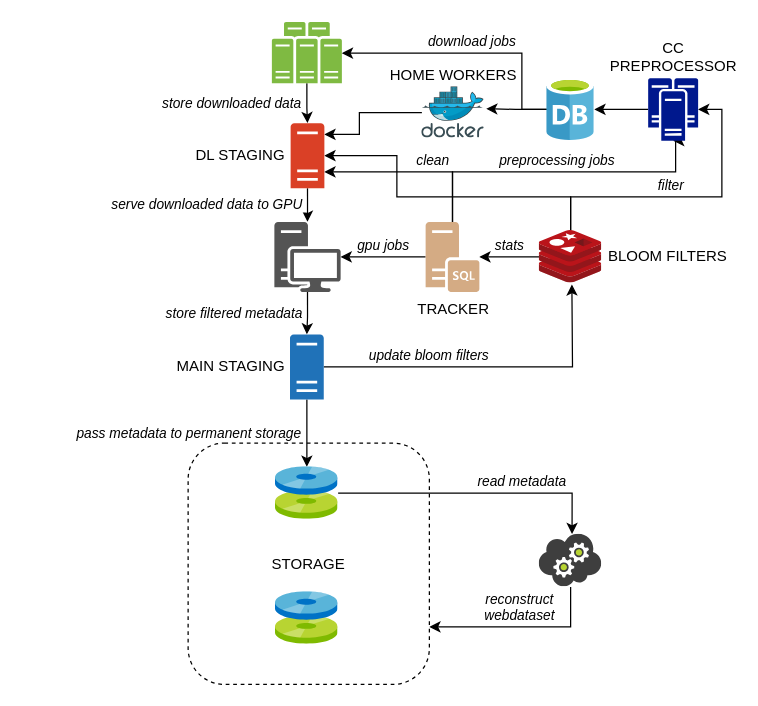
This 758x706 diagram has some shape labels left out. Each missing label, with the centre of its shape:
"GPU INFERENCE NODES" belongs at point (307, 256).
"IMG2DATASET" belongs at point (570, 560).
"noSQL" belongs at point (570, 109).
"SINGLE CPU WORKERS SWARMS MULTICPU WORKER DC NODES VM OR BARE METAL" belongs at point (306, 51).
